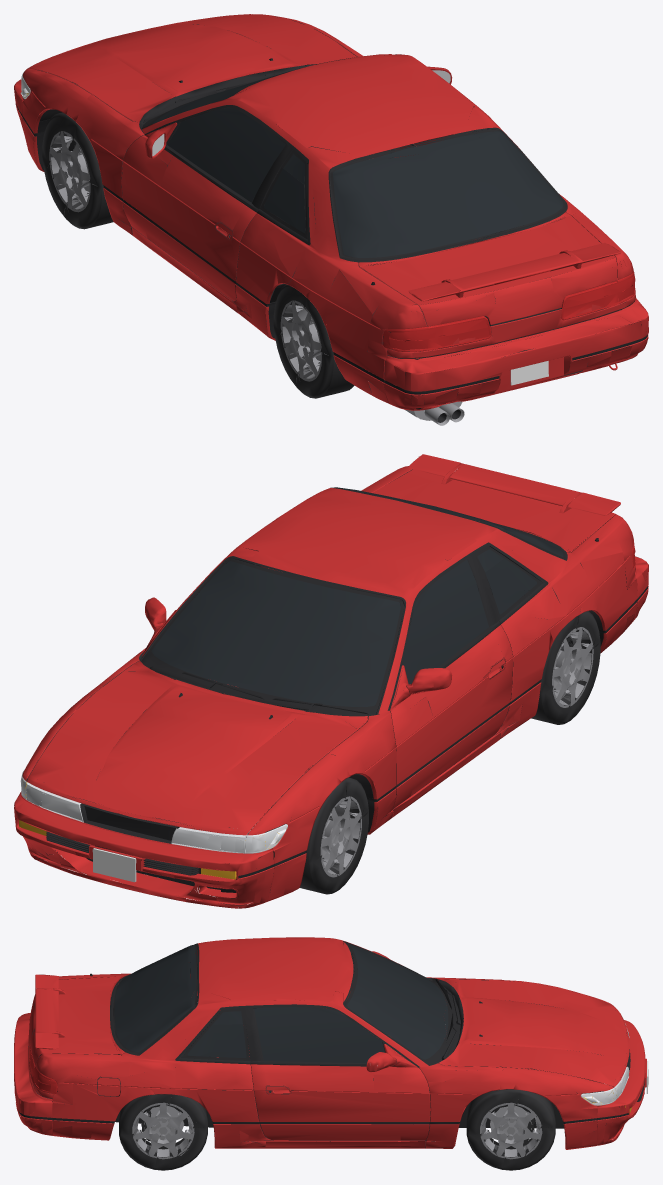
3 views of the same model, one above another, from view 1: azimuth 30°, elevation 25°; view 2: azimuth 150°, elevation 25°; view 3: azimuth 270°, elevation 25° (orthographic). The views are drawn at different scales.
Parts seen in each view (by area): view 1: body, wheel_fl, wheel_rl; view 2: body, wheel_fl, wheel_rl; view 3: body, wheel_fr, wheel_rr.
Boxes of the visible parts, x1,y1,x2,y2 form: body: [14, 14, 648, 425]; wheel_fl: [42, 112, 113, 229]; wheel_rl: [273, 281, 354, 398]; body: [14, 454, 648, 908]; wheel_fl: [300, 777, 368, 894]; wheel_rl: [531, 611, 600, 724]; body: [14, 937, 648, 1149]; wheel_fr: [466, 1089, 555, 1170]; wheel_rr: [119, 1093, 207, 1170].
Size of the model in its own units: 1.87 by 1.24 by 4.52.
